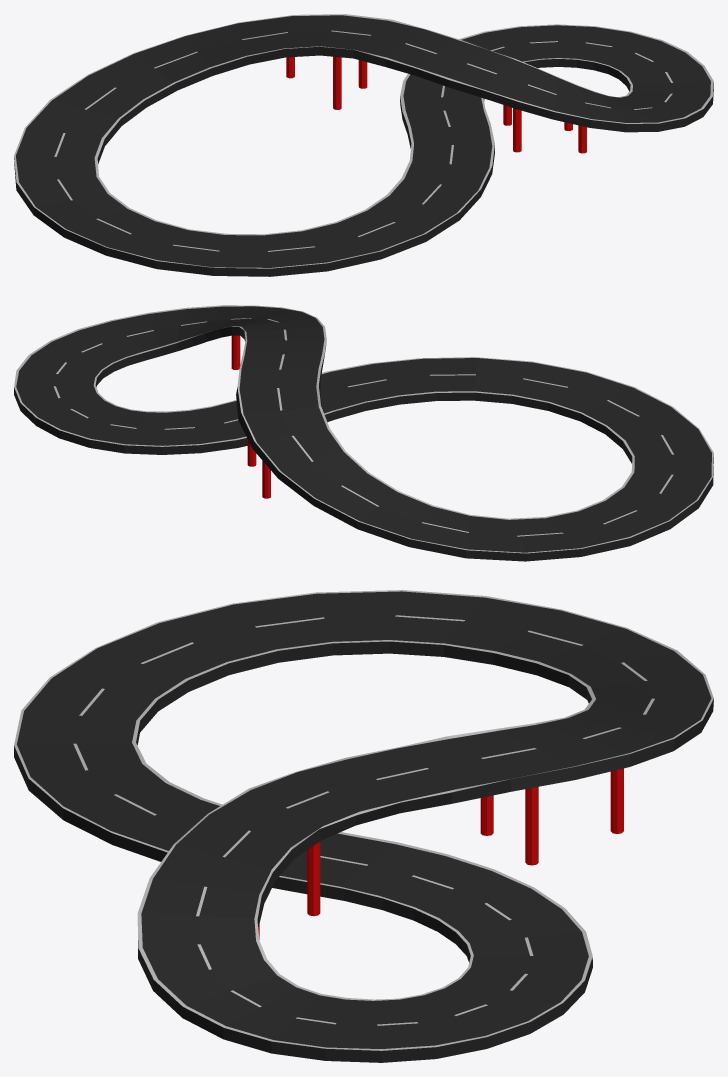
Rendered from Road.fbx.
3 renders of one model, top to bottom at view 1: azimuth 30°, elevation 25°; view 2: azimuth 150°, elevation 25°; view 3: azimuth 270°, elevation 25°, orthographic. The views are drawn at different scales.
Parts seen in each view (by area): view 1: Road; view 2: Road; view 3: Road.
Part boxes in pixels (x1,y1,x2,y2): Road: (14, 14, 713, 276); Road: (14, 305, 713, 561); Road: (14, 590, 713, 1062).
Bounding box in the file's own units: 19.48 × 2.17 × 12.39.
